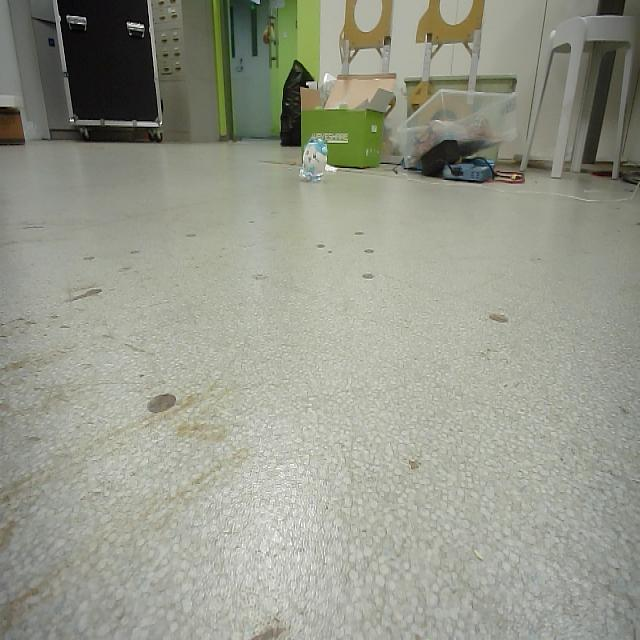xiaoba: (301, 136, 331, 181)
